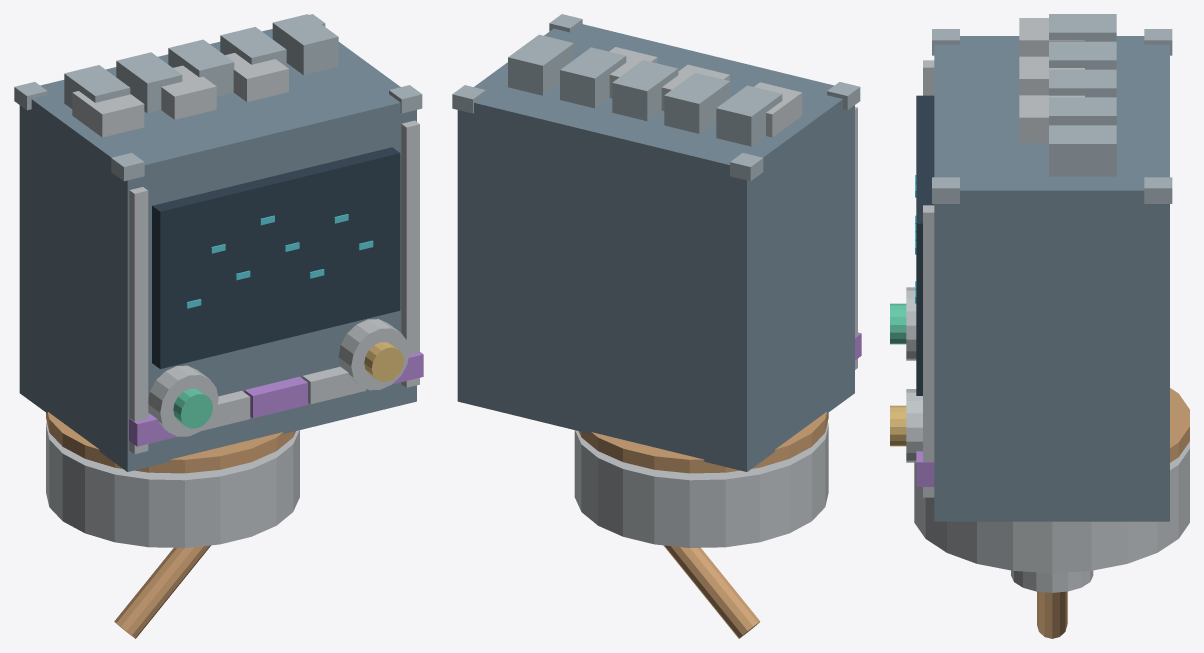
The model's file is 34_L73_AcousticEmissionSensor.glb.
3 views of the same model, side by side, from view 1: azimuth 30°, elevation 25°; view 2: azimuth 150°, elevation 25°; view 3: azimuth 270°, elevation 25° (orthographic). The views are drawn at different scales.
Visible parts, largest first — view 1: AcousticEmissionSensor_Node_0000, AcousticEmissionSensor_Node_0007, AcousticEmissionSensor_Node_0036, AcousticEmissionSensor_Node_0005, AcousticEmissionSensor_Node_0006, AcousticEmissionSensor_Node_0037, AcousticEmissionSensor_Node_0035, AcousticEmissionSensor_Node_0028, AcousticEmissionSensor_Node_0019, AcousticEmissionSensor_Node_0017, AcousticEmissionSensor_Node_0021, AcousticEmissionSensor_Node_0025 (+14 smaller); view 2: AcousticEmissionSensor_Node_0000, AcousticEmissionSensor_Node_0036, AcousticEmissionSensor_Node_0037, AcousticEmissionSensor_Node_0035, AcousticEmissionSensor_Node_0025, AcousticEmissionSensor_Node_0028, AcousticEmissionSensor_Node_0027, AcousticEmissionSensor_Node_0024, AcousticEmissionSensor_Node_0026, AcousticEmissionSensor_Node_0021, AcousticEmissionSensor_Node_0001, AcousticEmissionSensor_Node_0005 (+4 smaller); view 3: AcousticEmissionSensor_Node_0000, AcousticEmissionSensor_Node_0036, AcousticEmissionSensor_Node_0028, AcousticEmissionSensor_Node_0007, AcousticEmissionSensor_Node_0006, AcousticEmissionSensor_Node_0027, AcousticEmissionSensor_Node_0025, AcousticEmissionSensor_Node_0026, AcousticEmissionSensor_Node_0024, AcousticEmissionSensor_Node_0023, AcousticEmissionSensor_Node_0034, AcousticEmissionSensor_Node_0035 (+13 smaller).
Part boxes in pixels (<box>): AcousticEmissionSensor_Node_0000: <box>19,29,416,471</box>; AcousticEmissionSensor_Node_0007: <box>152,147,400,368</box>; AcousticEmissionSensor_Node_0036: <box>46,422,299,547</box>; AcousticEmissionSensor_Node_0005: <box>129,187,148,454</box>; AcousticEmissionSensor_Node_0006: <box>401,120,419,387</box>; AcousticEmissionSensor_Node_0037: <box>46,412,295,473</box>; AcousticEmissionSensor_Node_0035: <box>114,545,210,638</box>; AcousticEmissionSensor_Node_0028: <box>272,14,338,75</box>; AcousticEmissionSensor_Node_0019: <box>338,319,409,390</box>; AcousticEmissionSensor_Node_0017: <box>148,365,218,436</box>; AcousticEmissionSensor_Node_0021: <box>72,91,144,137</box>; AcousticEmissionSensor_Node_0025: <box>116,52,182,113</box>; AcousticEmissionSensor_Node_0000: <box>457,24,854,471</box>; AcousticEmissionSensor_Node_0036: <box>574,422,828,547</box>; AcousticEmissionSensor_Node_0037: <box>578,412,828,473</box>; AcousticEmissionSensor_Node_0035: <box>663,545,760,638</box>; AcousticEmissionSensor_Node_0025: <box>664,73,730,133</box>; AcousticEmissionSensor_Node_0028: <box>508,34,573,95</box>; AcousticEmissionSensor_Node_0027: <box>560,47,626,108</box>; AcousticEmissionSensor_Node_0024: <box>716,85,782,146</box>; AcousticEmissionSensor_Node_0026: <box>612,60,678,120</box>; AcousticEmissionSensor_Node_0021: <box>754,82,802,137</box>; AcousticEmissionSensor_Node_0001: <box>730,153,763,181</box>; AcousticEmissionSensor_Node_0005: <box>855,107,857,369</box>; AcousticEmissionSensor_Node_0000: <box>934,36,1169,521</box>; AcousticEmissionSensor_Node_0036: <box>914,441,1189,573</box>; AcousticEmissionSensor_Node_0028: <box>1049,125,1116,176</box>; AcousticEmissionSensor_Node_0007: <box>916,95,934,395</box>; AcousticEmissionSensor_Node_0006: <box>923,205,934,497</box>; AcousticEmissionSensor_Node_0027: <box>1049,97,1116,125</box>; AcousticEmissionSensor_Node_0025: <box>1049,41,1116,69</box>; AcousticEmissionSensor_Node_0026: <box>1049,69,1116,97</box>; AcousticEmissionSensor_Node_0024: <box>1049,14,1116,41</box>; AcousticEmissionSensor_Node_0023: <box>1019,95,1084,142</box>; AcousticEmissionSensor_Node_0034: <box>1011,570,1093,592</box>; AcousticEmissionSensor_Node_0035: <box>1037,591,1067,638</box>.
Size of the model in its own units: 0.4703 by 0.8138 by 0.3663.
